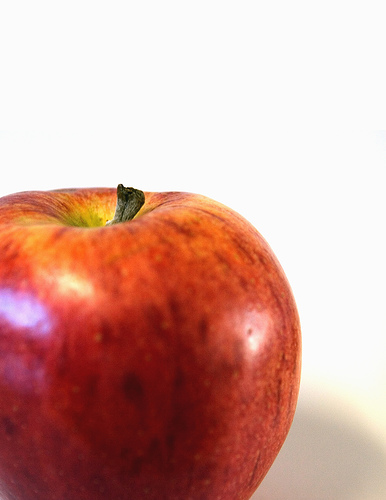apple: (0, 185, 303, 498)
